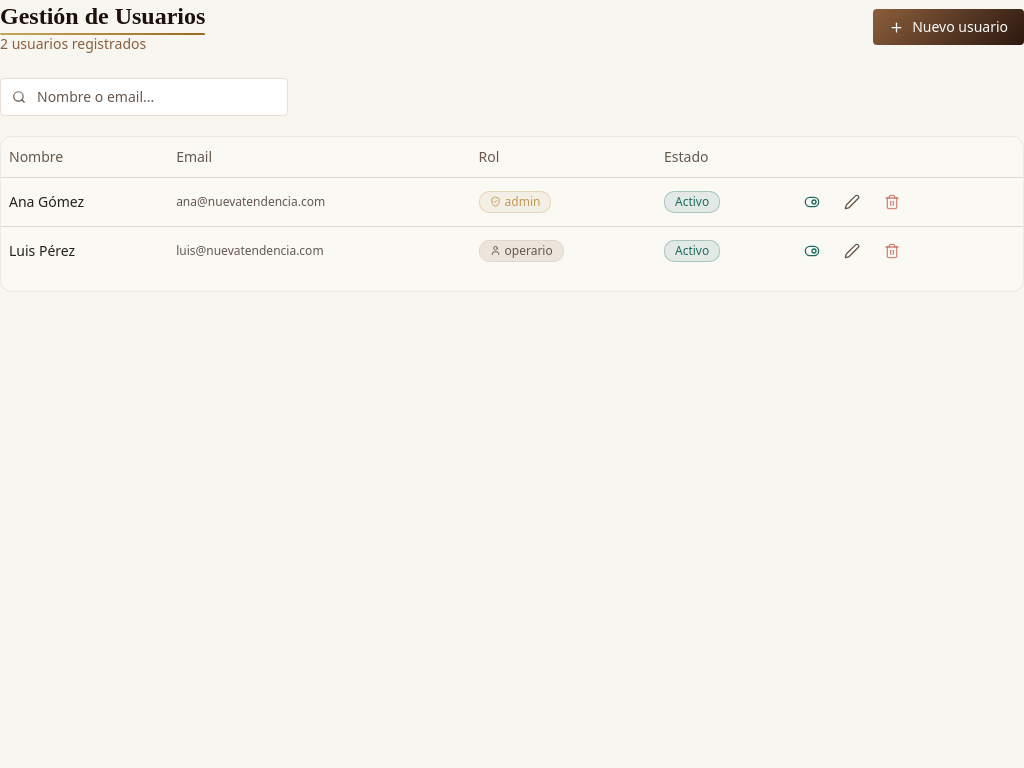
Test: UsuariosView — acceso admin › abre el modal de edición al hacer click en el ícono de editar
The width and height of the screenshot is (1024, 768).
Expected: the text "Ana Gómez" is shown, [1,177,168,226]
Click the 3rd button.
click(852, 202)  # box [836,186,868,218]
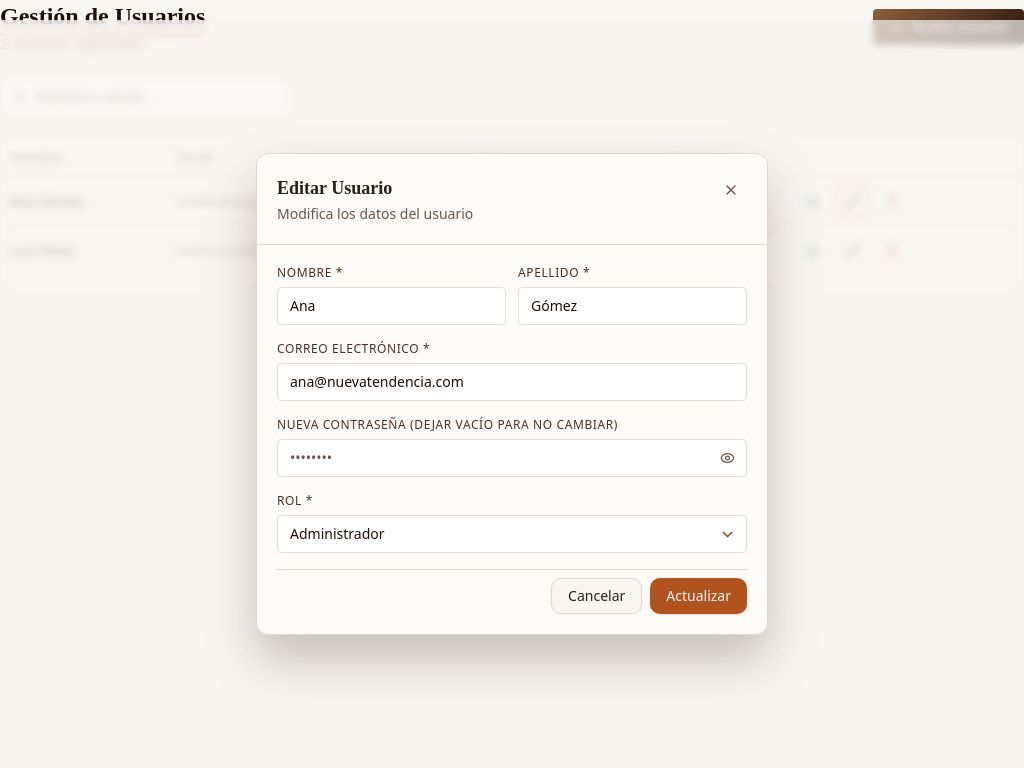
Result: the heading "Editar Usuario" is shown at [277,178,392,198]
Result: the field showing "ana@nuevatendencia.com" below "Correo electrónico *" is shown at [277,363,747,401]
